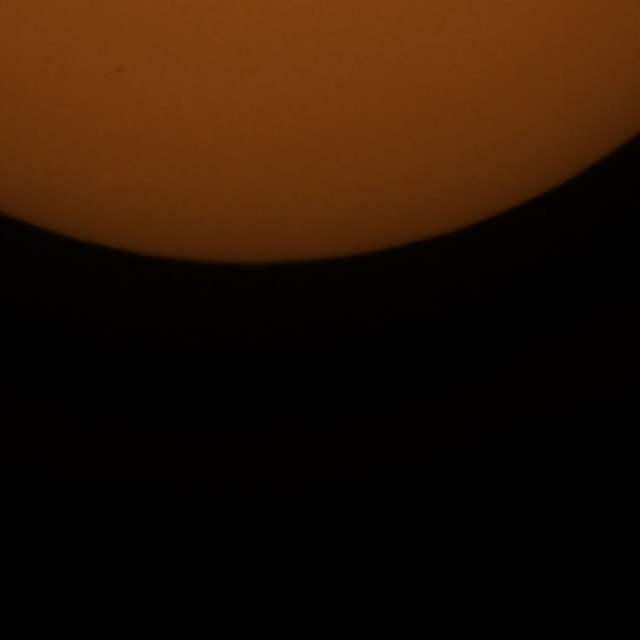sunspot: (114, 63, 125, 75)
